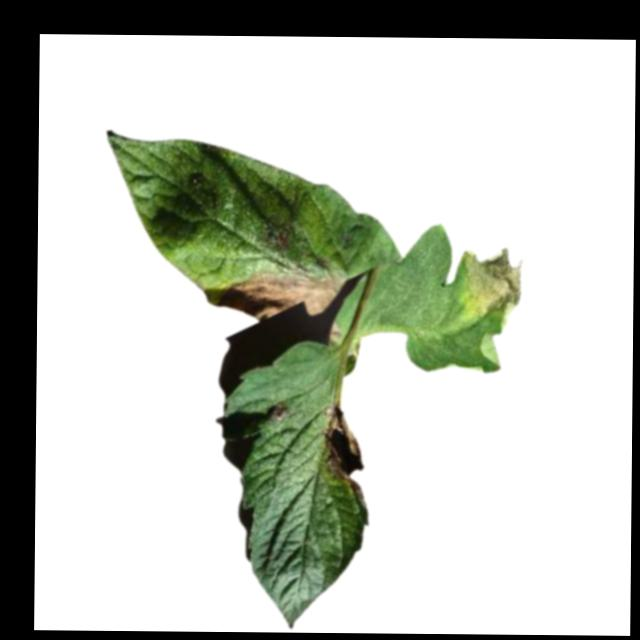Late_blight: (214, 272, 344, 322), (459, 245, 523, 320), (320, 402, 365, 502), (266, 399, 288, 423), (329, 323, 340, 340)
